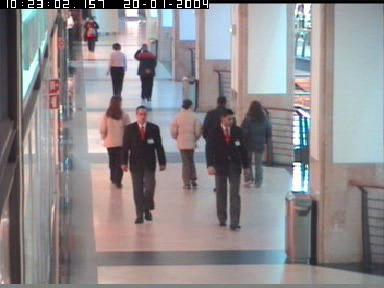person: (204, 108, 250, 230), (122, 106, 166, 224), (201, 94, 241, 192), (239, 100, 273, 188), (99, 94, 130, 187), (171, 99, 201, 189), (135, 43, 157, 100), (105, 44, 127, 99), (83, 15, 99, 50), (66, 9, 75, 53)
